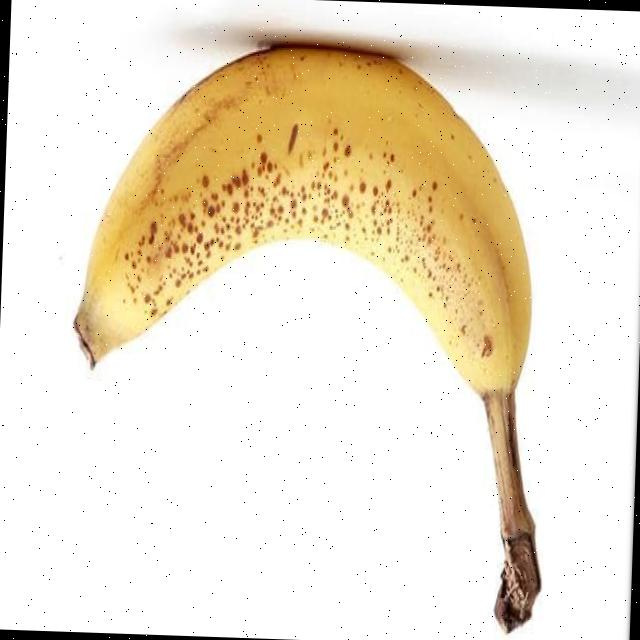Pisang: (61, 37, 560, 637)
